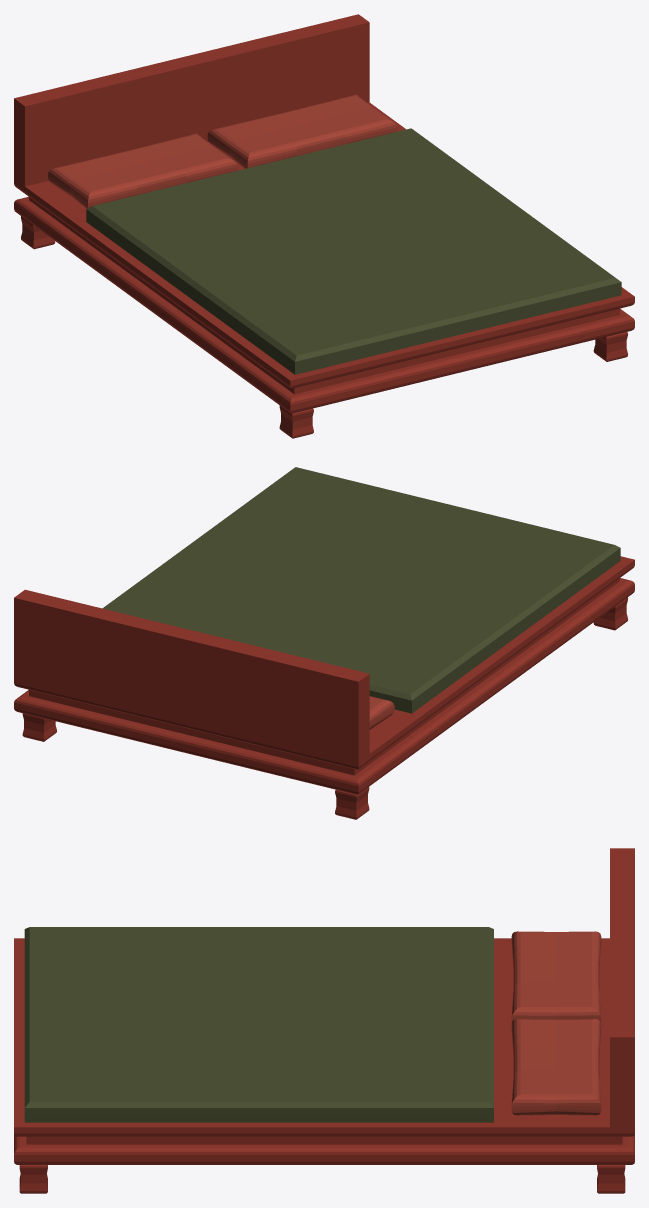
Rendered from Bed2_0607.fbx.
3 renders of one model, top to bottom at view 1: azimuth 30°, elevation 25°; view 2: azimuth 150°, elevation 25°; view 3: azimuth 270°, elevation 25°, orthographic. The views are drawn at different scales.
Visible parts, largest first — view 1: Quilt, Bed, Pillow, Pillow.001; view 2: Quilt, Bed, Pillow.001; view 3: Quilt, Bed, Pillow, Pillow.001.
Part boxes in pixels (x1=…): Quilt: x1=86, y1=128, x2=621, y2=374; Bed: x1=14, y1=14, x2=634, y2=438; Pillow: x1=207, y1=94, x2=397, y2=168; Pillow.001: x1=48, y1=133, x2=237, y2=208; Quilt: x1=102, y1=467, x2=620, y2=713; Bed: x1=14, y1=556, x2=634, y2=819; Pillow.001: x1=369, y1=696, x2=394, y2=729; Quilt: x1=24, y1=927, x2=493, y2=1122; Bed: x1=14, y1=848, x2=634, y2=1193; Pillow: x1=511, y1=1019, x2=601, y2=1115; Pillow.001: x1=511, y1=931, x2=601, y2=1022.
Bounding box in the file's own units: 648 × 256 × 900.
